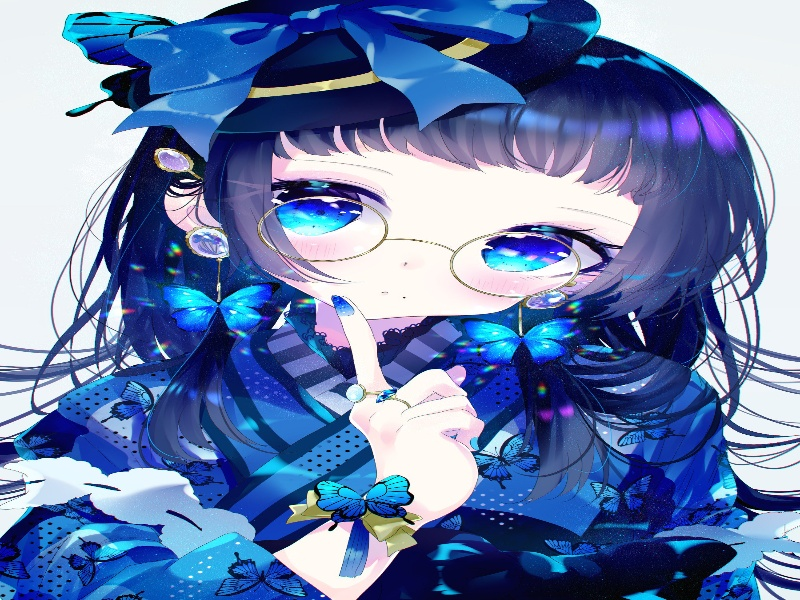person: (186, 45, 703, 373)
